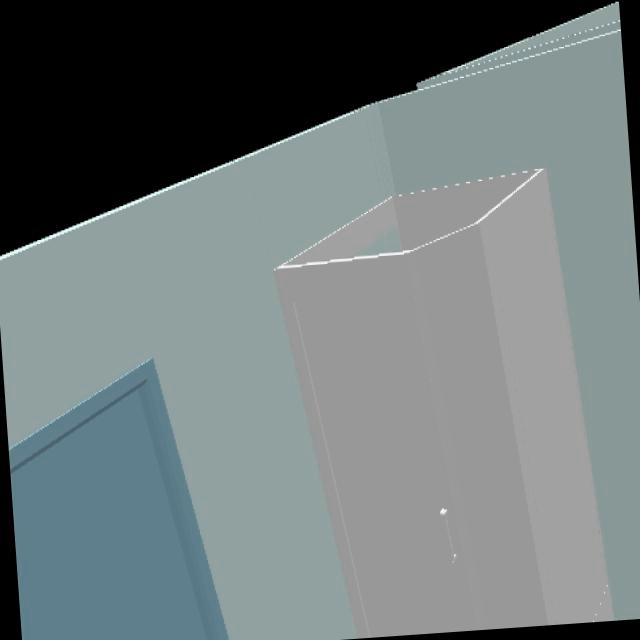shower: (271, 168, 615, 638)
